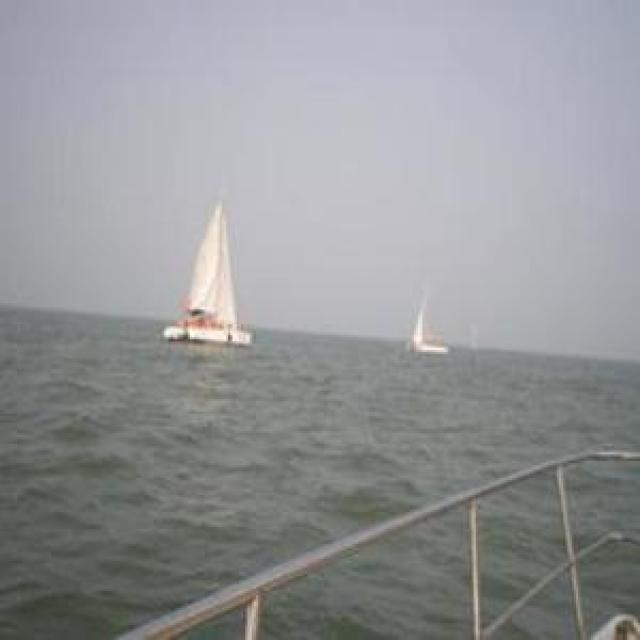sailboat: (156, 202, 257, 349), (395, 287, 449, 367)
